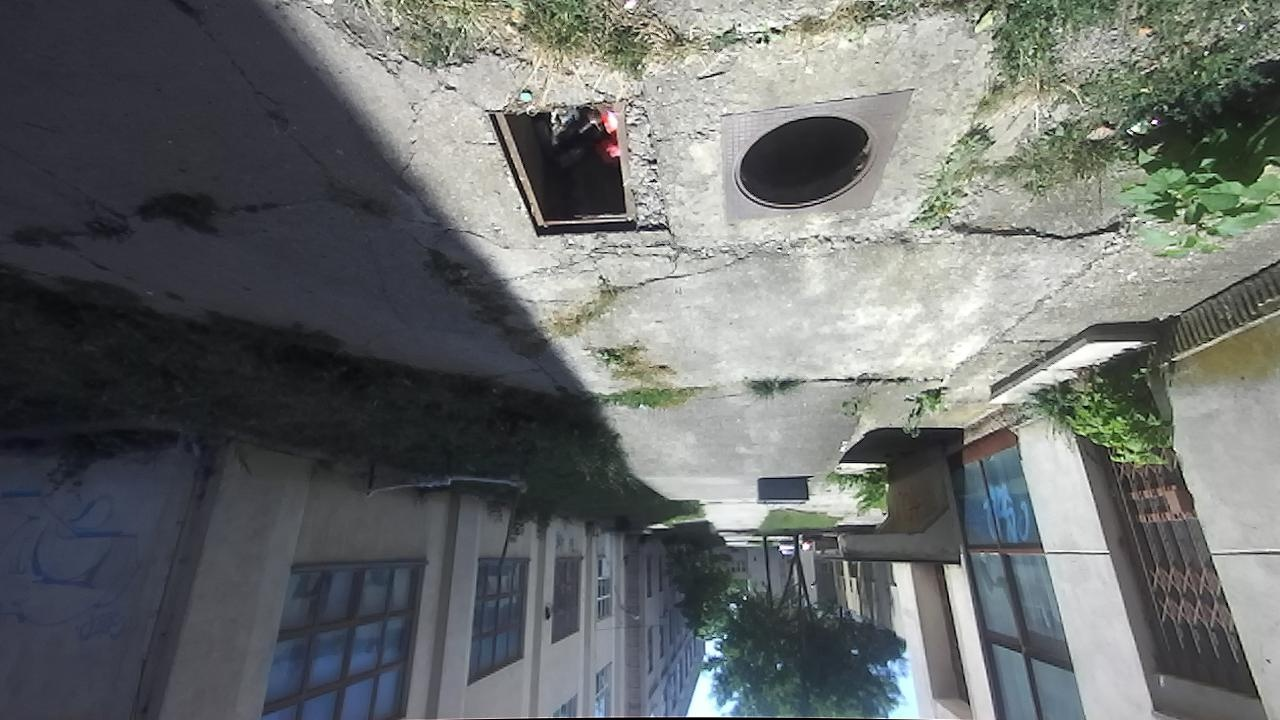drain: (480, 94, 644, 239), (730, 111, 883, 215)
